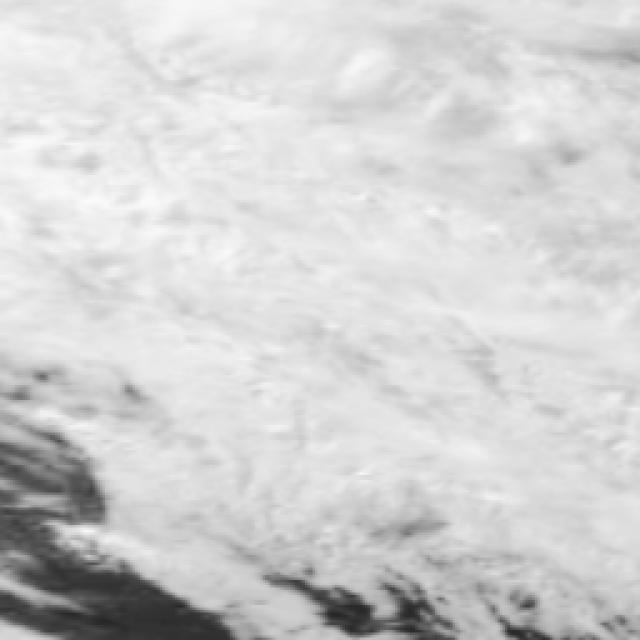CB: (219, 0, 448, 213), (0, 0, 222, 207), (447, 0, 640, 225), (211, 361, 434, 536), (0, 202, 232, 369), (224, 202, 446, 375), (435, 374, 640, 554), (444, 215, 640, 389), (106, 352, 286, 499)
